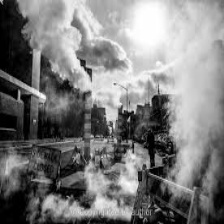smoke: (170, 16, 221, 185), (6, 162, 134, 221), (25, 1, 96, 97)
